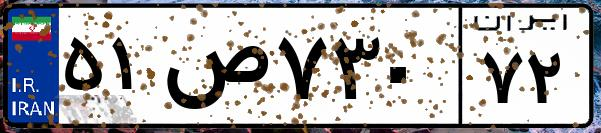0: (385, 28, 445, 110)
1: (110, 28, 158, 98)
2: (525, 38, 570, 115)
3: (330, 28, 385, 110)
5: (57, 26, 110, 100)
7: (270, 28, 330, 110), (475, 38, 525, 113)
ص: (158, 20, 270, 120)
